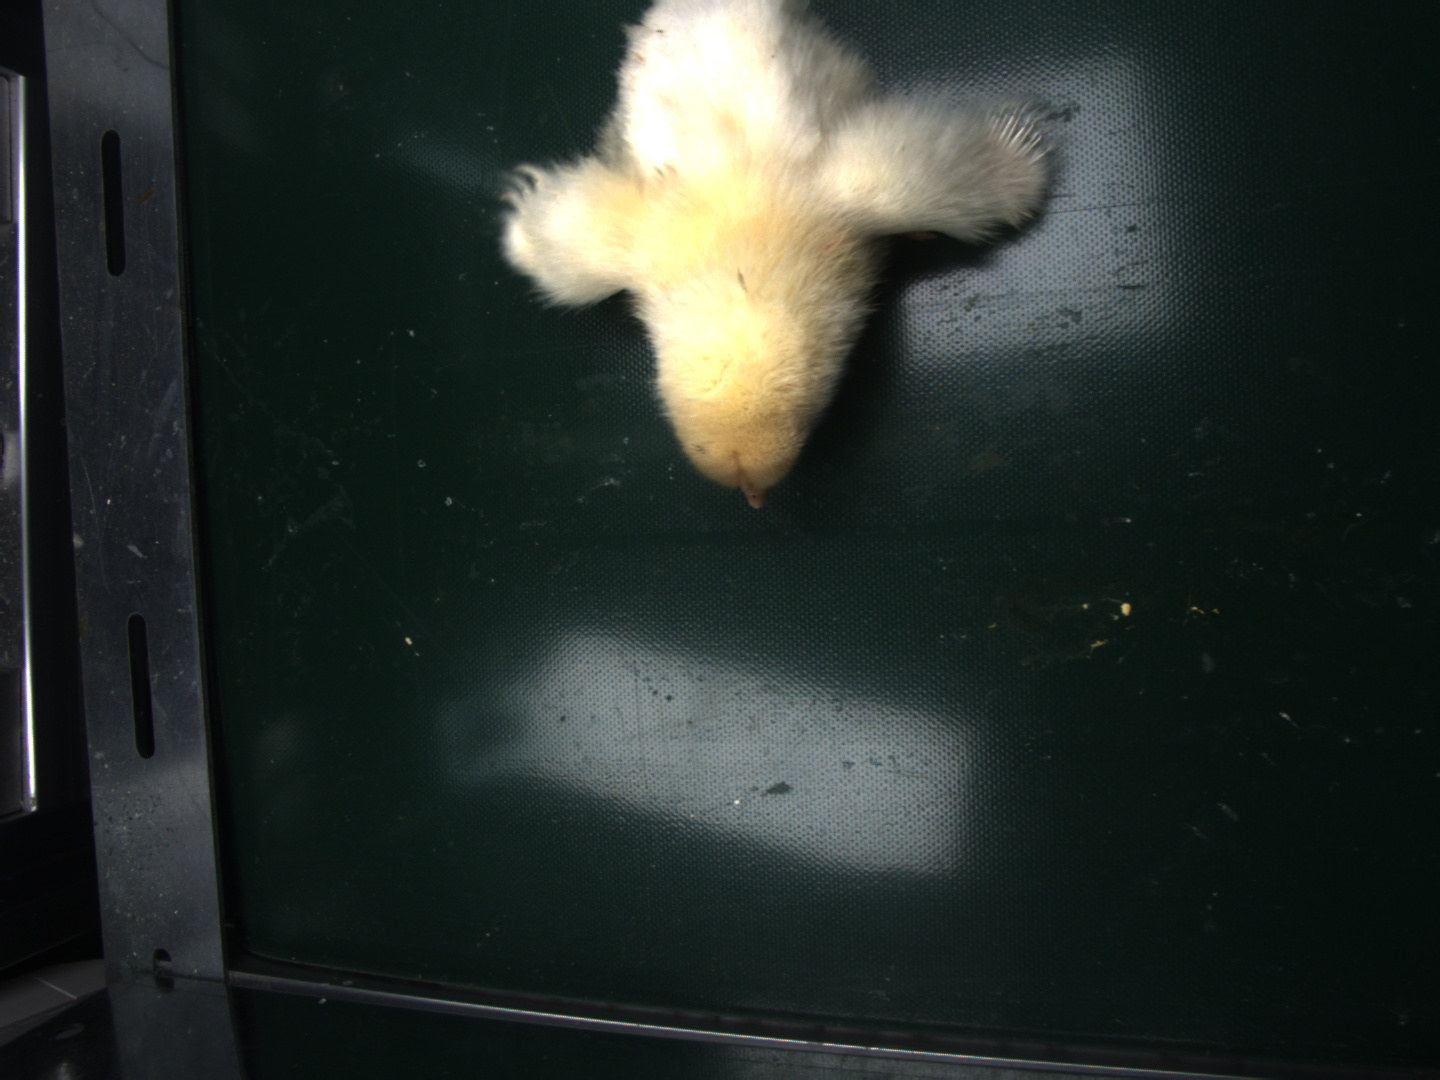male: (989, 113, 1043, 159)
